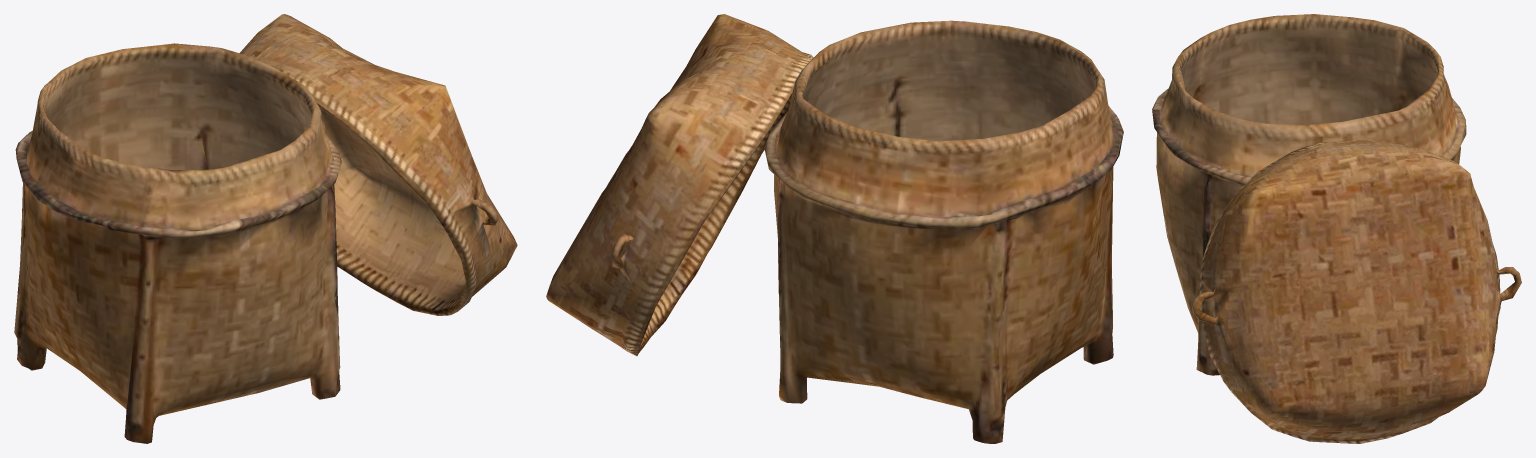
File: wicker_basket_02.glb
3 views of the same model, side by side, from view 1: azimuth 30°, elevation 25°; view 2: azimuth 150°, elevation 25°; view 3: azimuth 270°, elevation 25° (orthographic). The views are drawn at different scales.
Parts seen in each view (by area): view 1: wicker_basket_02_base; view 2: wicker_basket_02_base; view 3: wicker_basket_02_base.
Boxes of the visible parts, box(x1,y1,x2,y2) form: wicker_basket_02_base: box(14, 14, 517, 443); wicker_basket_02_base: box(546, 14, 1123, 443); wicker_basket_02_base: box(1152, 14, 1521, 443).
Bounding box in the file's own units: 0.3459 × 0.2004 × 0.254.
Materials: 1 (1 with a texture image).
